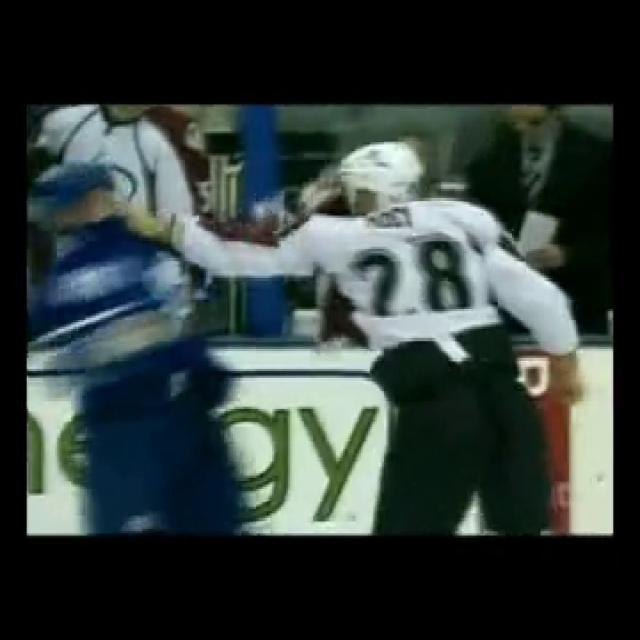non-violence: (461, 101, 611, 342), (54, 104, 201, 215)
violence: (44, 140, 568, 532)
